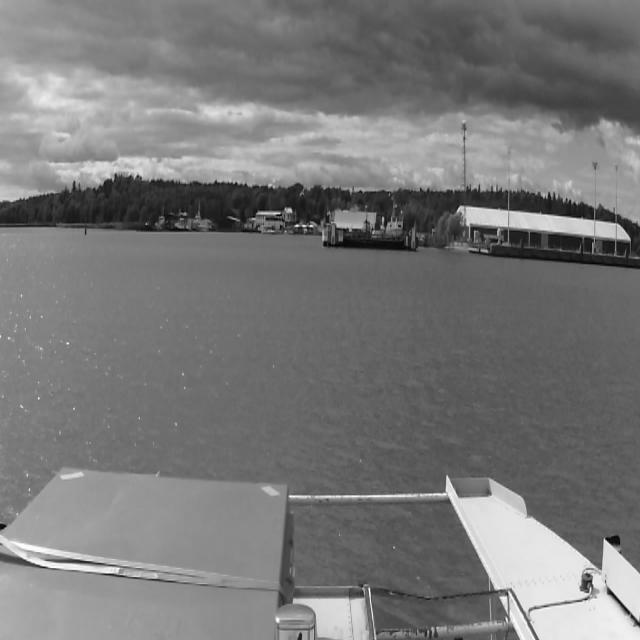buoy: (84, 221, 87, 235)
